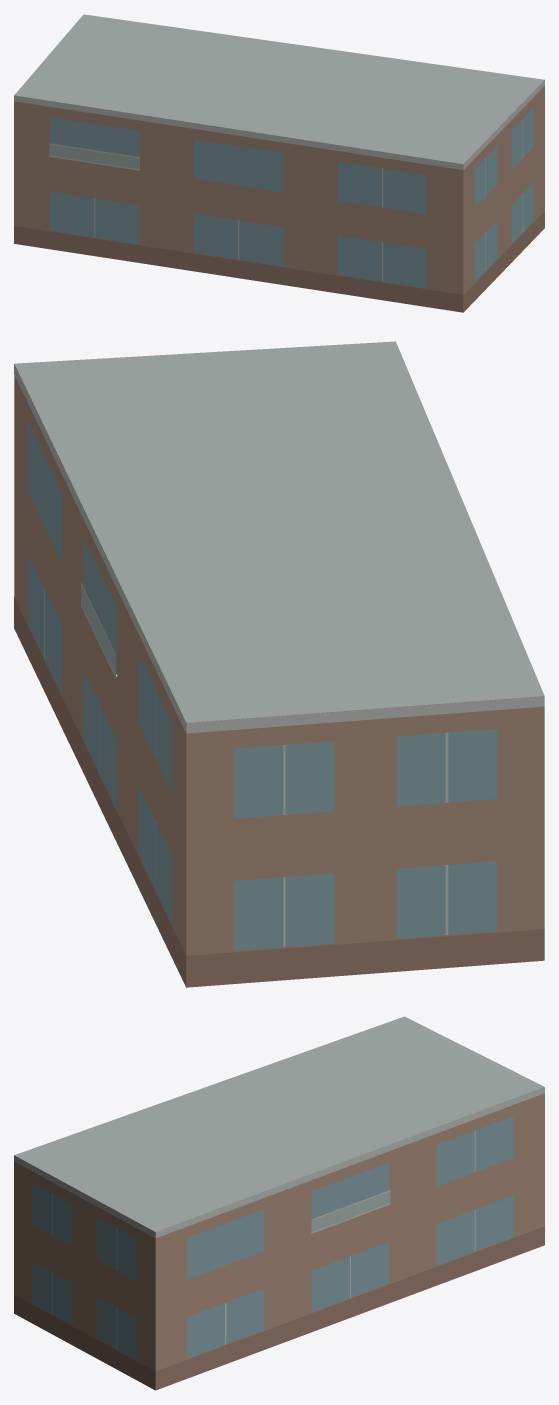
Rendered from survey-upis-32529502.glb.
3 views of the same model, one above another, from view 1: azimuth 30°, elevation 25°; view 2: azimuth 150°, elevation 25°; view 3: azimuth 270°, elevation 25° (orthographic). The views are drawn at different scales.
Parts seen in each view (by area): view 1: survey-upis-32529502.tmp; view 2: survey-upis-32529502.tmp; view 3: survey-upis-32529502.tmp.
Part boxes in pixels (left/top/right/bottom): survey-upis-32529502.tmp: left=14, top=14, right=544, bottom=312; survey-upis-32529502.tmp: left=14, top=341, right=544, bottom=987; survey-upis-32529502.tmp: left=14, top=1016, right=544, bottom=1390.
Size of the model in its own units: 17.83 by 6.1 by 18.54.
